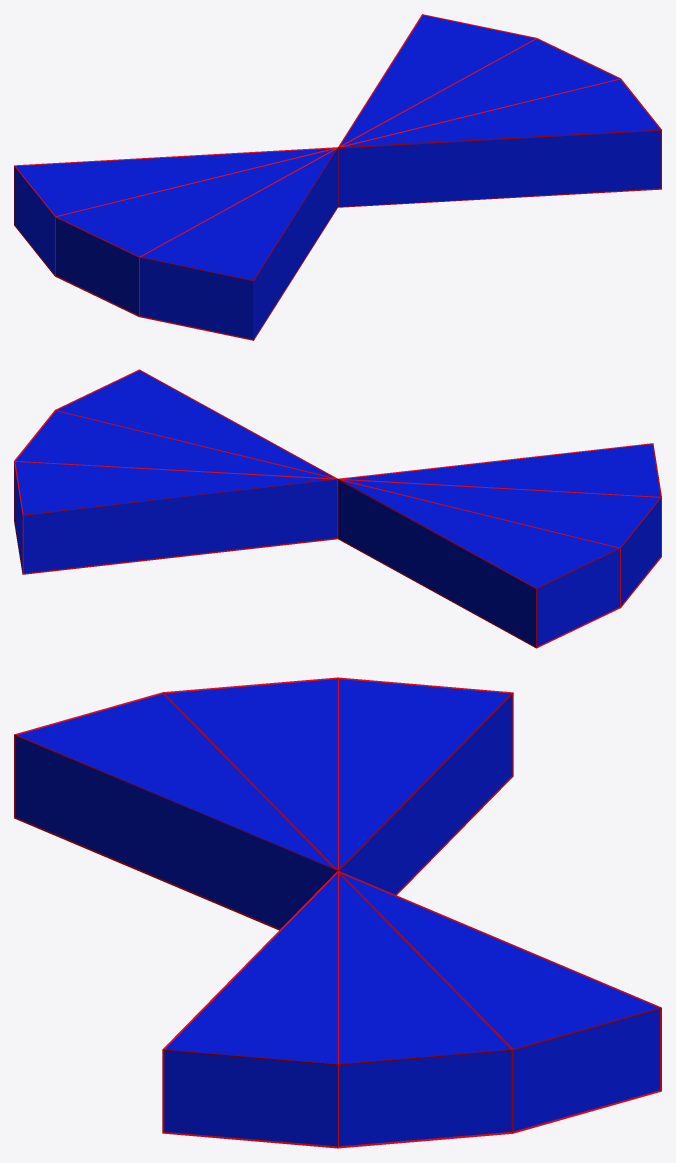
3 renders of one model, top to bottom at view 1: azimuth 30°, elevation 25°; view 2: azimuth 150°, elevation 25°; view 3: azimuth 270°, elevation 25°, orthographic. The views are drawn at different scales.
Parts seen in each view (by area): view 1: L7_Cylinder_F3; view 2: L7_Cylinder_F3; view 3: L7_Cylinder_F3.
Boxes of the visible parts, left/top/right/bottom form: L7_Cylinder_F3: left=14, top=14, right=661, bottom=340; L7_Cylinder_F3: left=14, top=369, right=661, bottom=648; L7_Cylinder_F3: left=14, top=677, right=661, bottom=1148.
Bounding box in the file's own units: 2004 × 205 × 1418.
